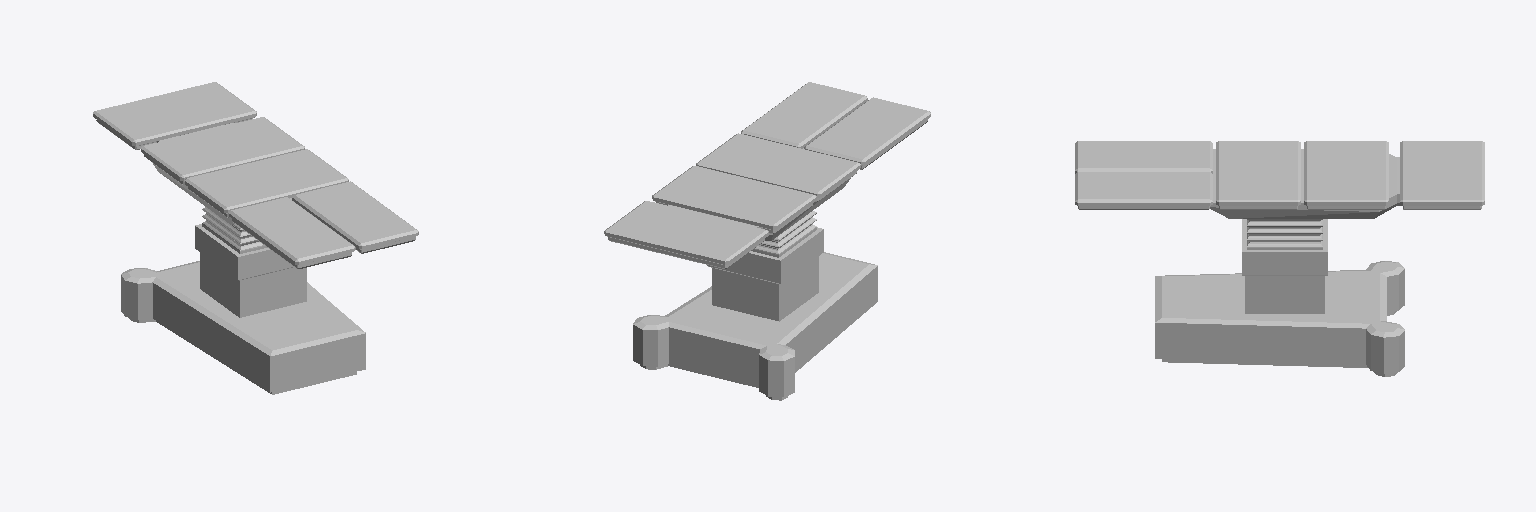
Rendered from Armchair.obj.
3 views of the same model, side by side, from view 1: azimuth 30°, elevation 25°; view 2: azimuth 150°, elevation 25°; view 3: azimuth 270°, elevation 25° (orthographic).
Parts seen in each view (by area): view 1: Box004; view 2: Box004; view 3: Box004.
Boxes of the visible parts, x1=… form: Box004: x1=93, y1=82, x2=418, y2=394; Box004: x1=604, y1=82, x2=930, y2=400; Box004: x1=1075, y1=141, x2=1484, y2=376.
Size of the model in its own units: 25.08 by 26.01 by 56.44.